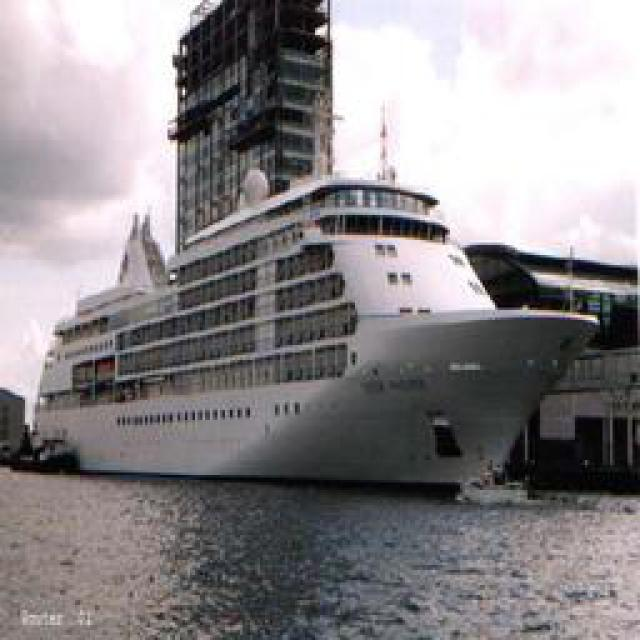Ship: (30, 184, 605, 489)
